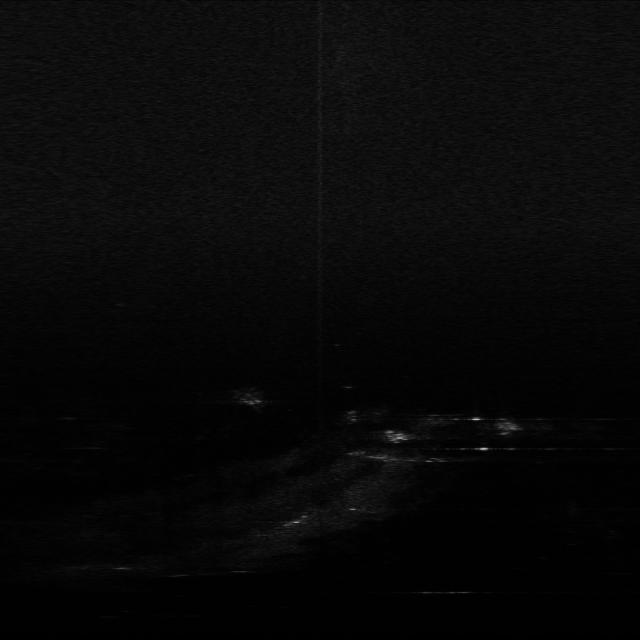rov: (382, 428, 412, 446)
